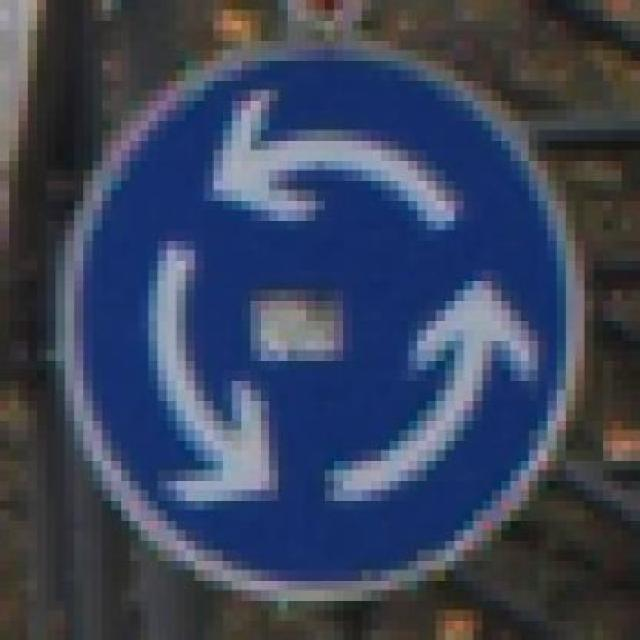Round-About: (37, 19, 612, 630)
